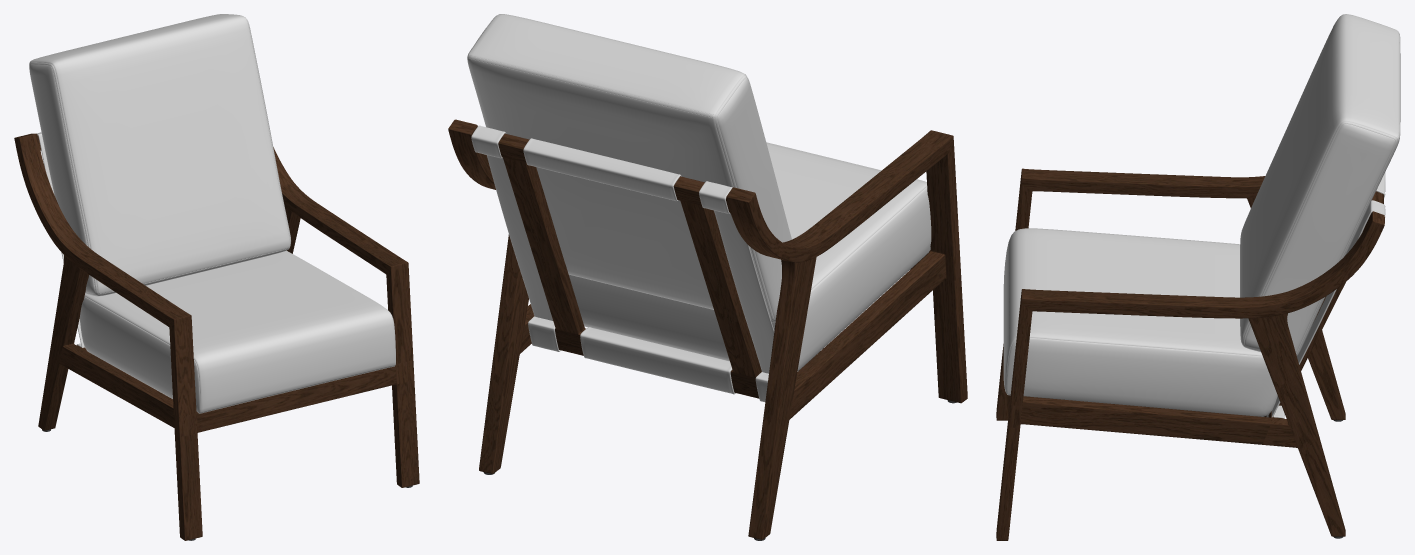
File: SBH_SERENA.glb
3 renders of one model, left to right at view 1: azimuth 30°, elevation 25°; view 2: azimuth 150°, elevation 25°; view 3: azimuth 270°, elevation 25°, orthographic. The views are drawn at different scales.
Parts seen in each view (by area): view 1: SERENA; view 2: SERENA; view 3: SERENA.
Part boxes in pixels (left/top/right/bottom): SERENA: left=14, top=14, right=419, bottom=540; SERENA: left=448, top=14, right=967, bottom=540; SERENA: left=996, top=14, right=1400, bottom=540.
Bounding box in the file's own units: 0.5799 × 0.8579 × 0.7601.
Materials: 3 (1 with a texture image).
